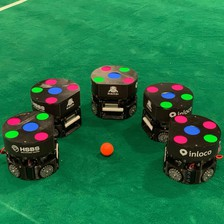ball: (98, 140, 115, 158)
robot: (160, 111, 224, 187), (1, 107, 62, 181), (87, 62, 139, 121), (48, 73, 83, 140), (139, 79, 171, 144)
